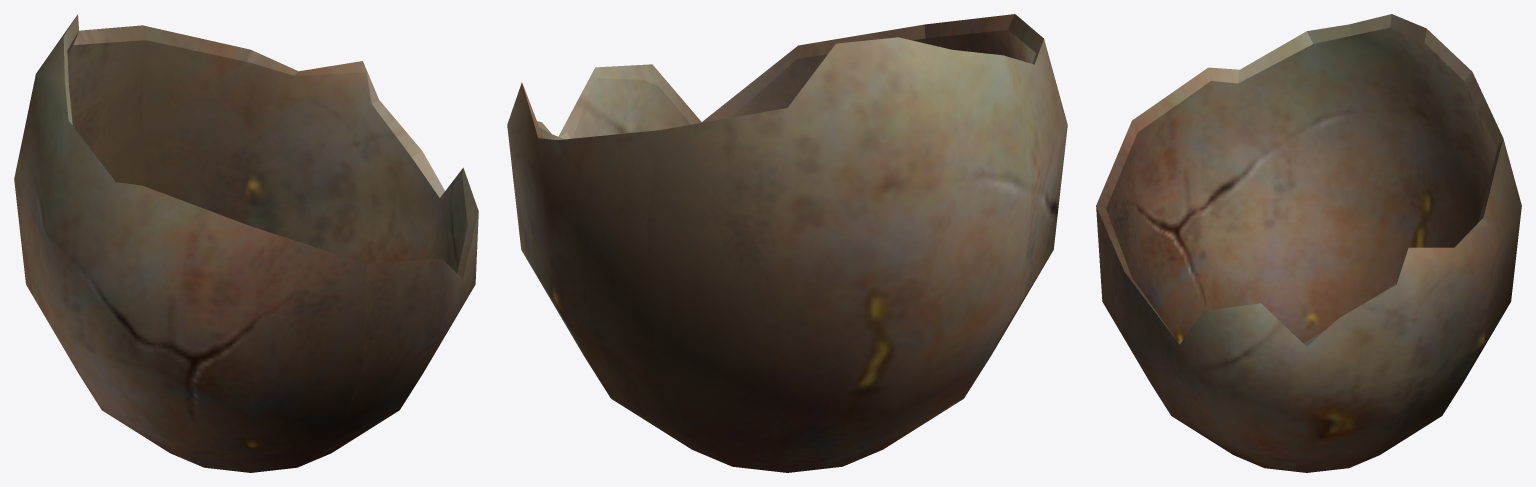
Rendered from D_longdan008.fbx.
The picture shows the model from 3 angles, left to right: view 1: azimuth 30°, elevation 25°; view 2: azimuth 150°, elevation 25°; view 3: azimuth 270°, elevation 25°; orthographic projection. The views are drawn at different scales.
Visible parts, largest first — view 1: D_longdan008; view 2: D_longdan008; view 3: D_longdan008.
Boxes of the visible parts, <box> form: D_longdan008: <box>14,14,478,472</box>; D_longdan008: <box>507,14,1067,472</box>; D_longdan008: <box>1096,14,1521,472</box>.
Size of the model in its own units: 440 by 437 by 443.
